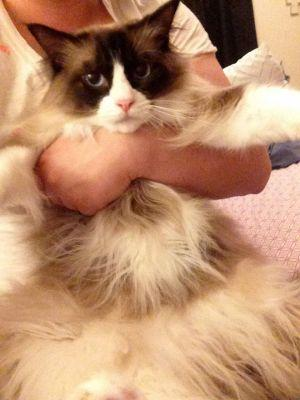ragdoll: (21, 1, 197, 148)
